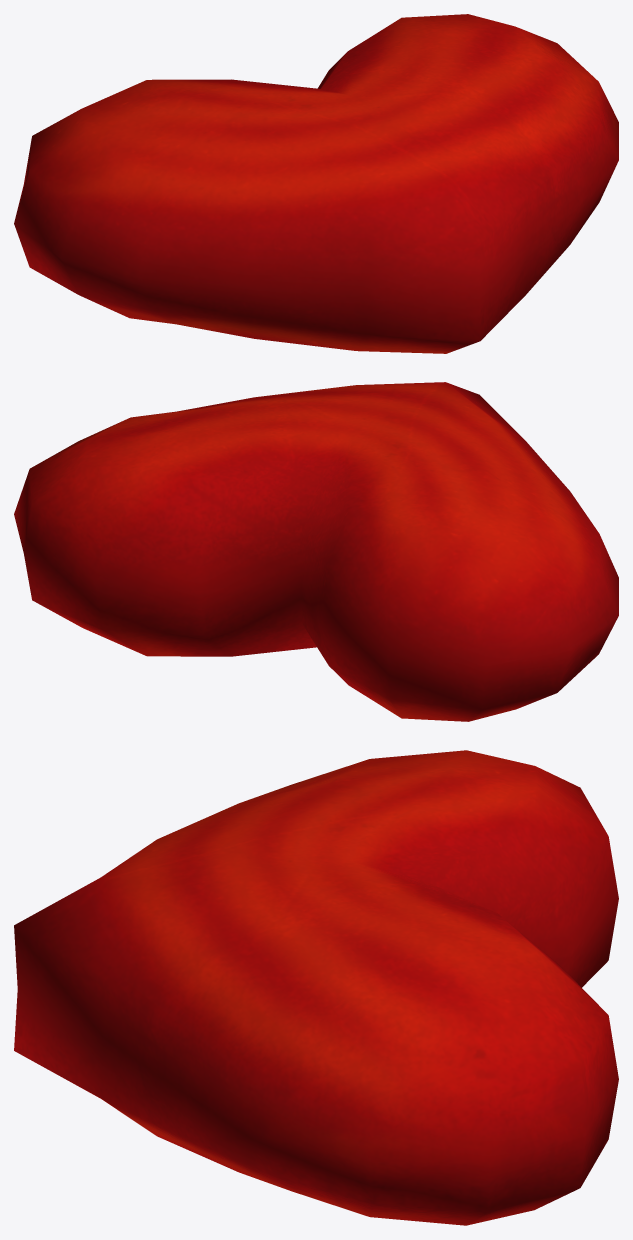
The model's file is CHP_MOD_Chewie_red.fbx.
The picture shows the model from 3 angles, top to bottom: view 1: azimuth 30°, elevation 25°; view 2: azimuth 150°, elevation 25°; view 3: azimuth 270°, elevation 25°; orthographic projection. The views are drawn at different scales.
Visible parts, largest first — view 1: CHP_MOD_Chewie_red; view 2: CHP_MOD_Chewie_red; view 3: CHP_MOD_Chewie_red.
Boxes of the visible parts, x1,y1,x2,y2 form: CHP_MOD_Chewie_red: [14, 14, 618, 353]; CHP_MOD_Chewie_red: [14, 382, 618, 721]; CHP_MOD_Chewie_red: [14, 750, 618, 1225].
Bounding box in the file's own units: 0.7358 × 0.2603 × 0.5441.
